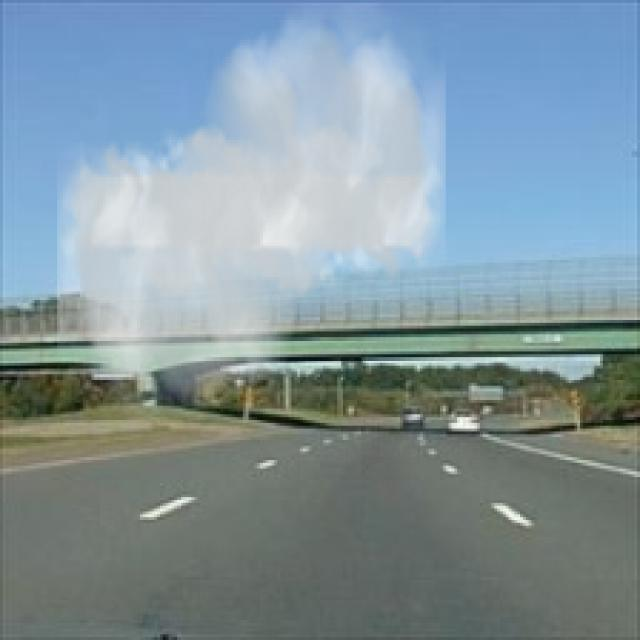Smoke: (57, 3, 446, 420)
